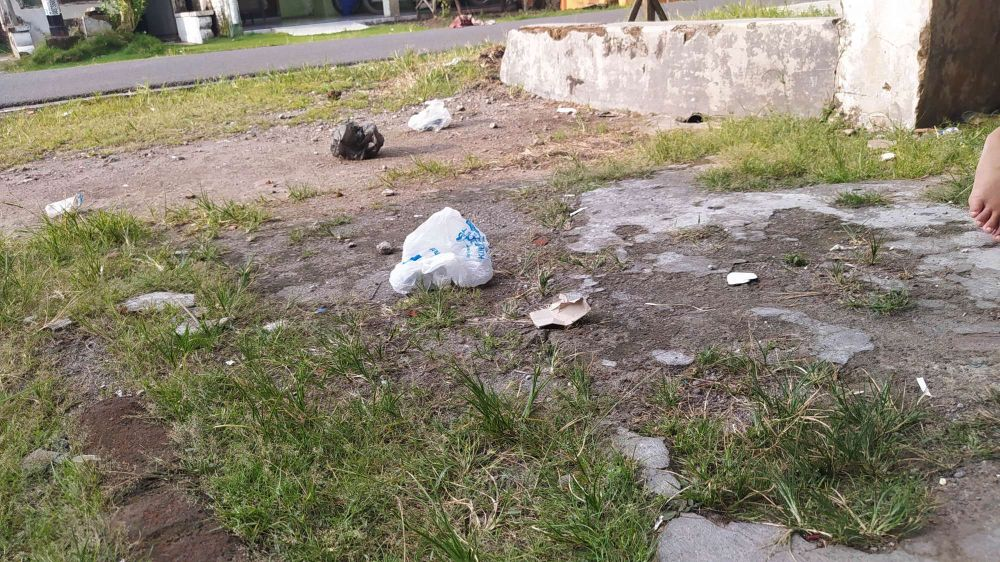plastik: (388, 194, 507, 311), (305, 110, 393, 162), (411, 89, 462, 140)
